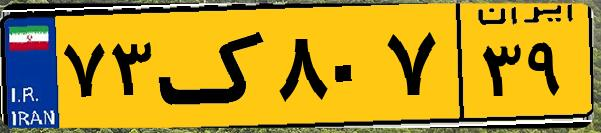0: (330, 28, 385, 110)
3: (475, 38, 525, 113), (110, 28, 158, 98)
7: (385, 28, 445, 110), (57, 26, 110, 100)
8: (270, 28, 330, 110)
9: (525, 38, 570, 115)
ک: (158, 12, 270, 120)
